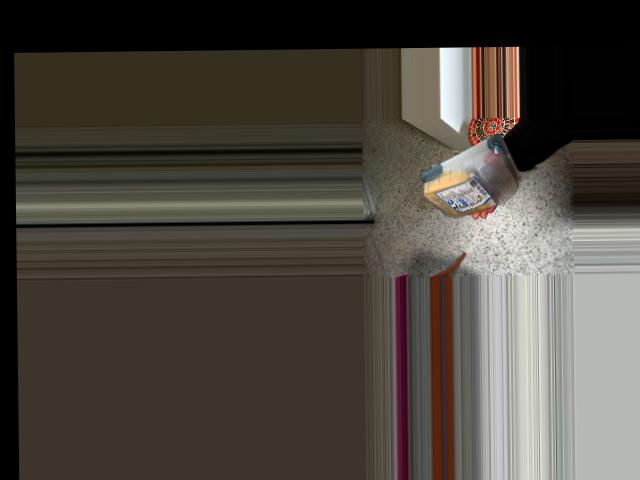cheese: (415, 135, 537, 220)
